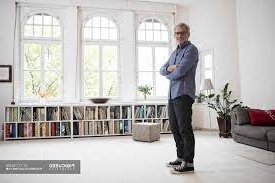not_fallen: (153, 17, 213, 174)
